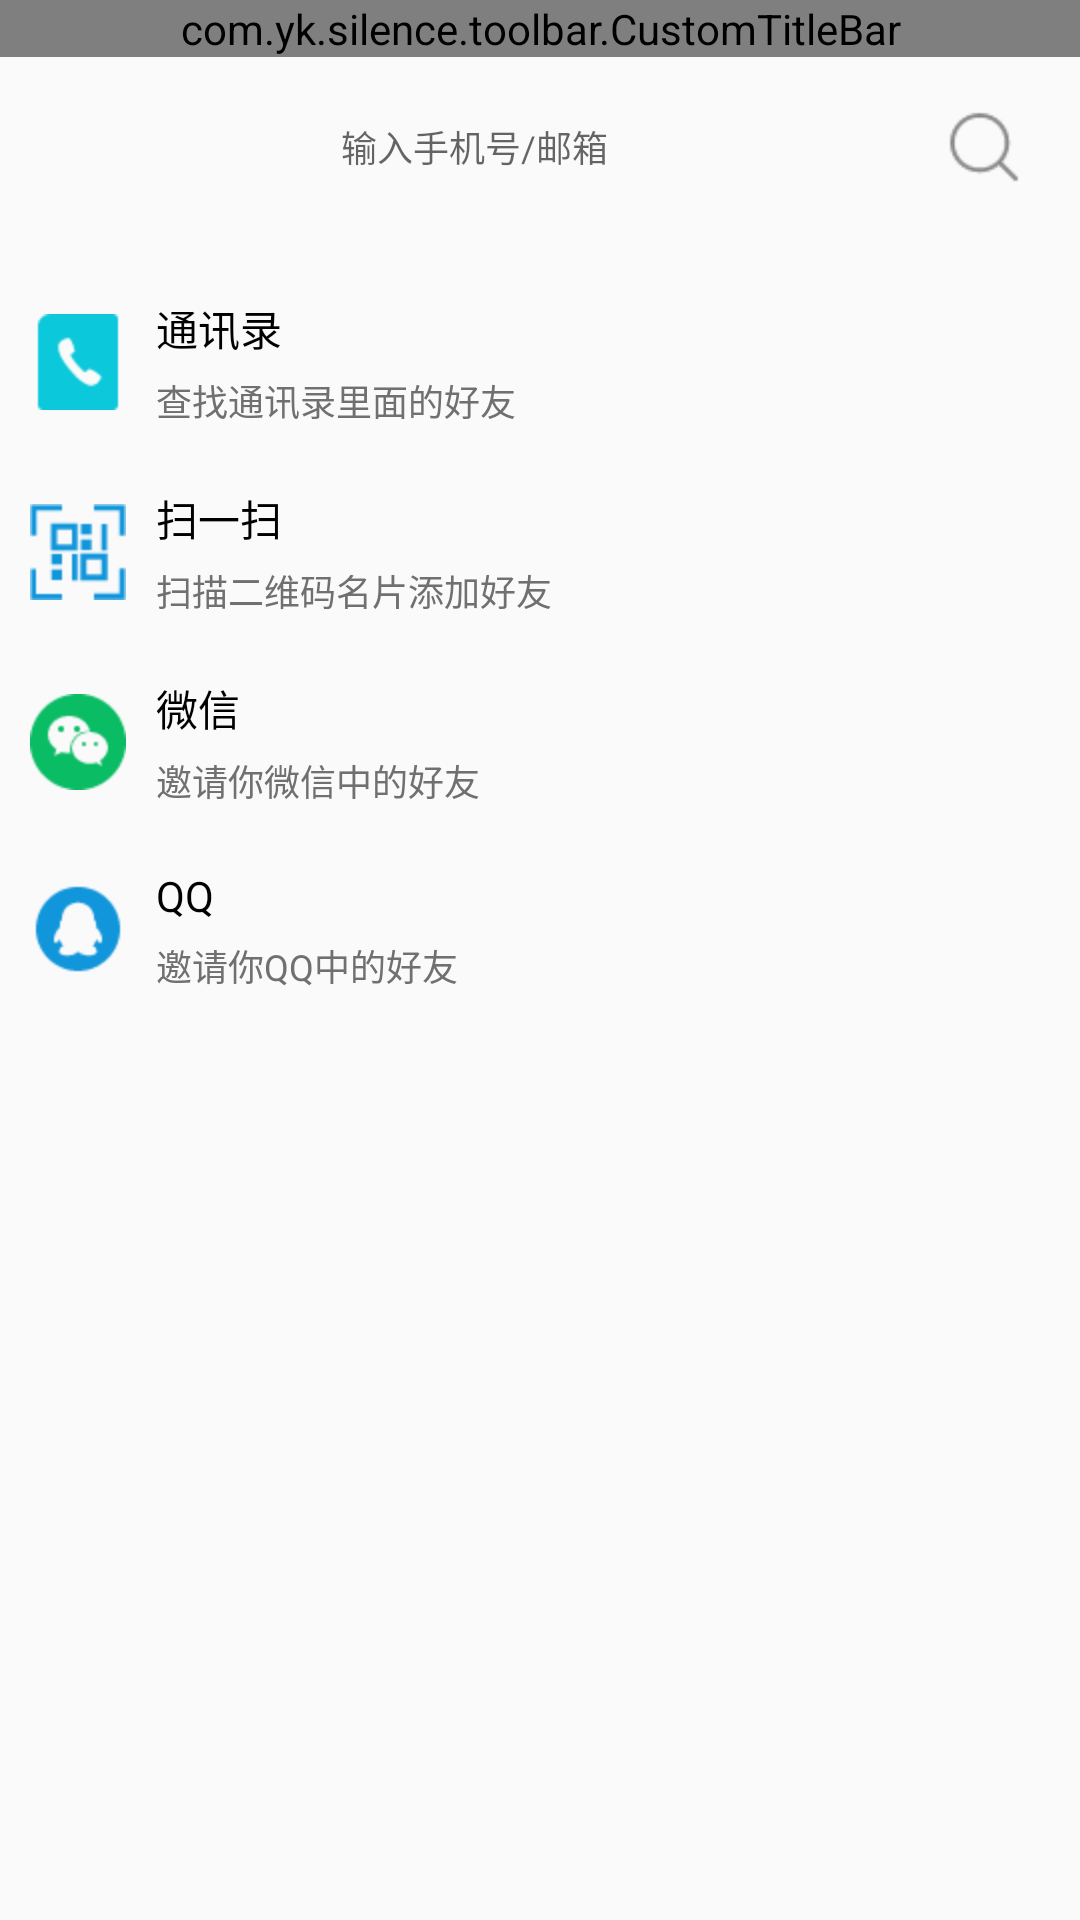

Screen size 1080px×1920px. Icon name, then its center in pixels as [x,y]:
search: [984,147]
